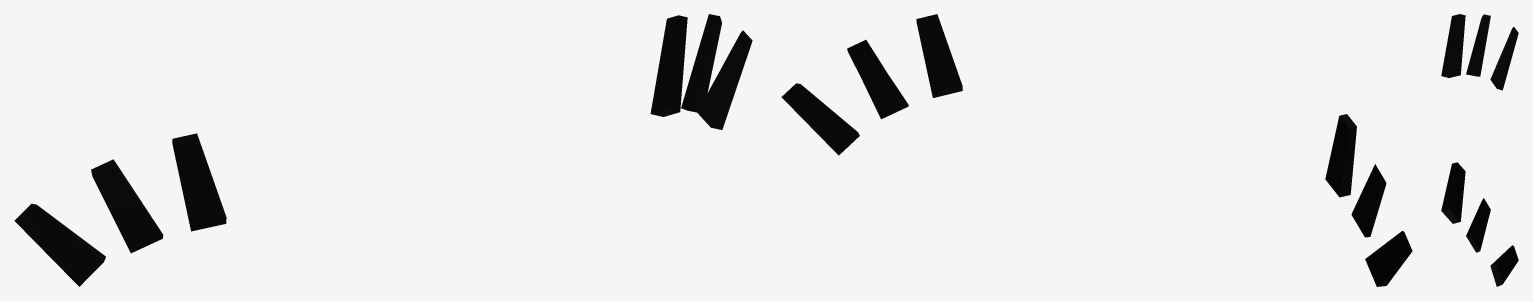
File: lashes.fbx
3 views of the same model, side by side, from view 1: azimuth 30°, elevation 25°; view 2: azimuth 150°, elevation 25°; view 3: azimuth 270°, elevation 25° (orthographic). The views are drawn at different scales.
Visible parts, largest first — view 1: lashes; view 2: lashes; view 3: lashes.
Boxes of the visible parts, x1,y1,x2,y2 form: lashes: [14, 14, 752, 286]; lashes: [781, 14, 1412, 286]; lashes: [1441, 14, 1518, 286].
Bounding box in the file's own units: 99.6 × 20.01 × 14.34.
1 material, 1 textured.
